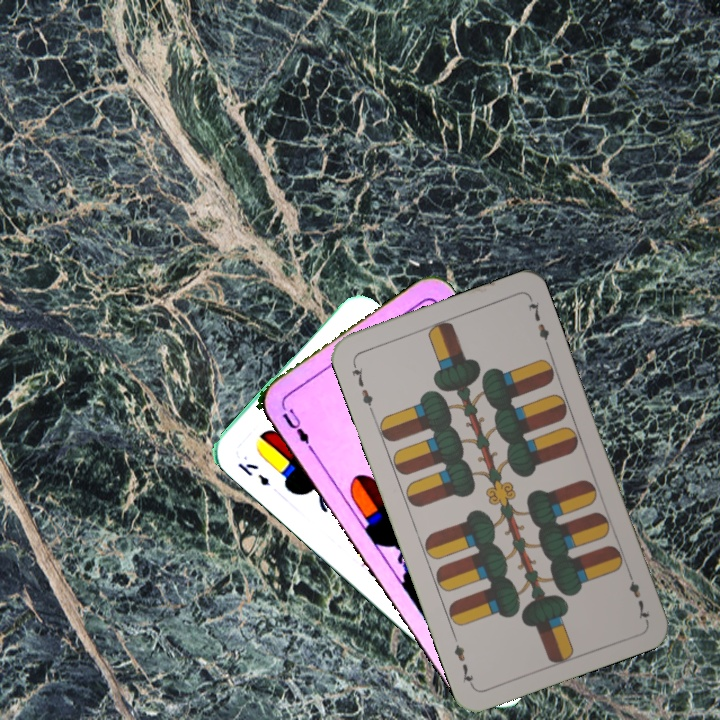E7: (623, 566, 652, 624), (348, 358, 376, 415)
EK: (233, 458, 272, 489)
EU: (278, 404, 316, 454)
